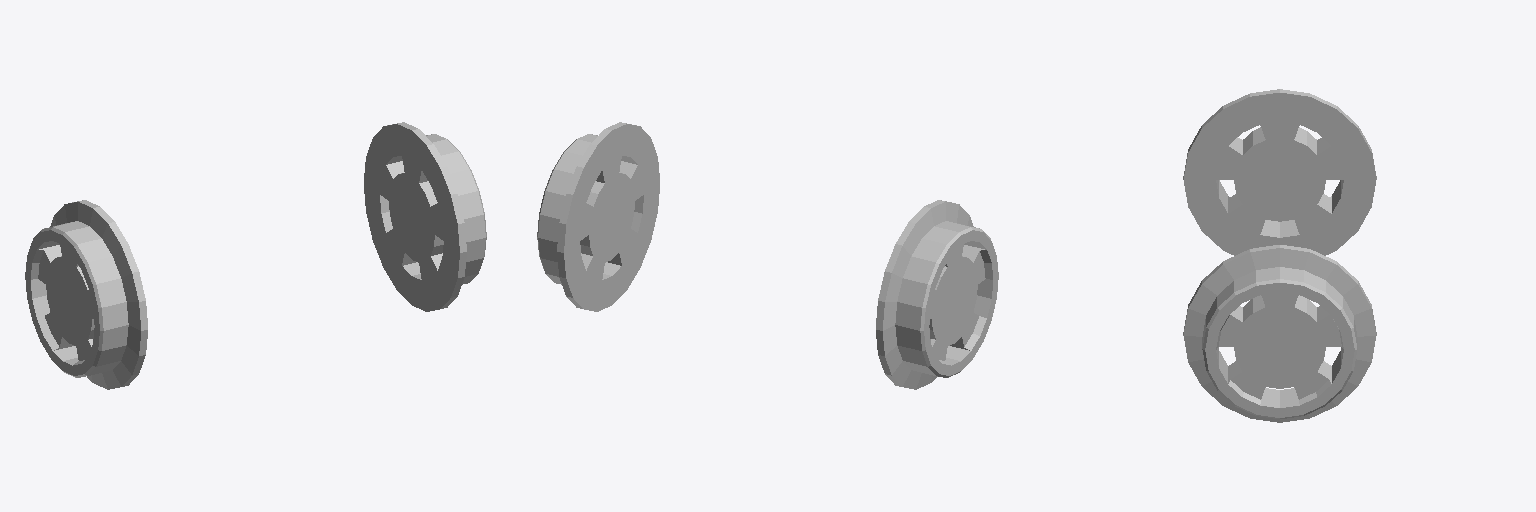
File: wheelFront.obj
3 views of the same model, side by side, from view 1: azimuth 30°, elevation 25°; view 2: azimuth 150°, elevation 25°; view 3: azimuth 270°, elevation 25° (orthographic).
Parts seen in each view (by area): view 1: MineCart_Wheel1.001_MineCart_Mat.001; view 2: MineCart_Wheel1.001_MineCart_Mat.001; view 3: MineCart_Wheel1.001_MineCart_Mat.001.
Boxes of the visible parts, <box> form: MineCart_Wheel1.001_MineCart_Mat.001: <box>25,122,486,389</box>; MineCart_Wheel1.001_MineCart_Mat.001: <box>537,122,998,389</box>; MineCart_Wheel1.001_MineCart_Mat.001: <box>1183,89,1376,422</box>.
Bounding box in the file's own units: 0.0724 × 0.0313 × 0.0313.